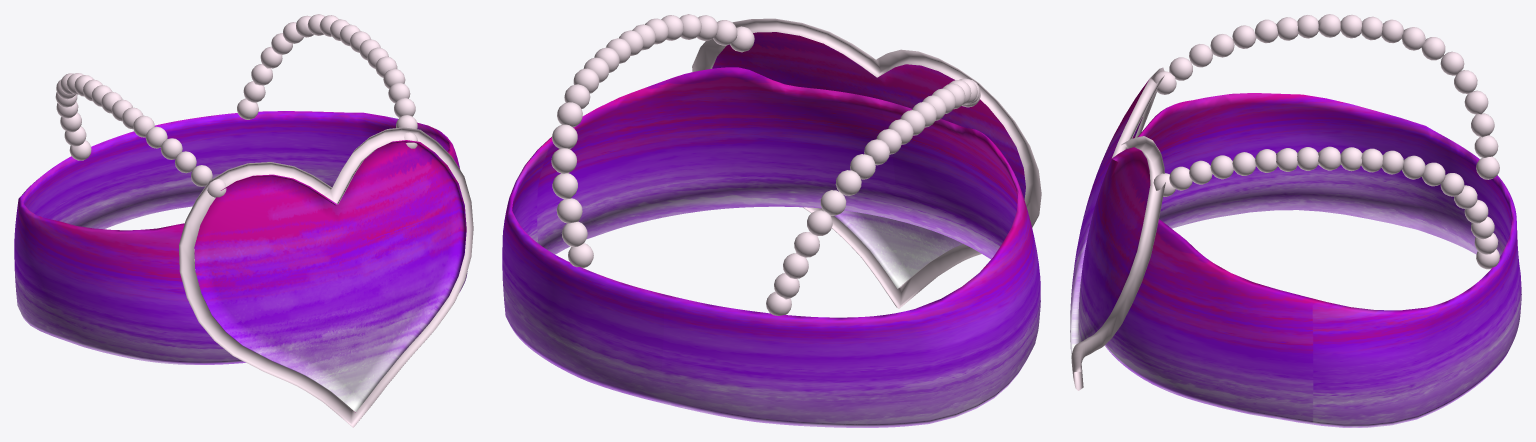
File: testee.gltf
3 views of the same model, side by side, from view 1: azimuth 30°, elevation 25°; view 2: azimuth 150°, elevation 25°; view 3: azimuth 270°, elevation 25° (orthographic). The views are drawn at different scales.
Parts seen in each view (by area): view 1: glasses_geom_remesh, BODY.6, Cloner, glasses_geom_remesh.1; view 2: BODY.6, Cloner, glasses_geom_remesh, glasses_geom_remesh.1; view 3: BODY.6, Cloner, glasses_geom_remesh, glasses_geom_remesh.1.
Boxes of the visible parts, left/top/right/bottom form: glasses_geom_remesh: left=194, top=140, right=466, bottom=412; BODY.6: left=14, top=111, right=467, bottom=364; Cloner: left=55, top=14, right=417, bottom=197; glasses_geom_remesh.1: left=179, top=127, right=473, bottom=427; BODY.6: left=502, top=67, right=1040, bottom=427; Cloner: left=551, top=14, right=980, bottom=315; glasses_geom_remesh: left=712, top=32, right=1025, bottom=288; glasses_geom_remesh.1: left=692, top=18, right=1041, bottom=308; BODY.6: left=1105, top=93, right=1521, bottom=427; Cloner: left=1153, top=14, right=1499, bottom=269; glasses_geom_remesh: left=1070, top=80, right=1150, bottom=369; glasses_geom_remesh.1: left=1071, top=67, right=1165, bottom=390.
Bounding box in the file's own units: 0.3472 × 0.2284 × 0.3029.
2 materials, 1 textured.
